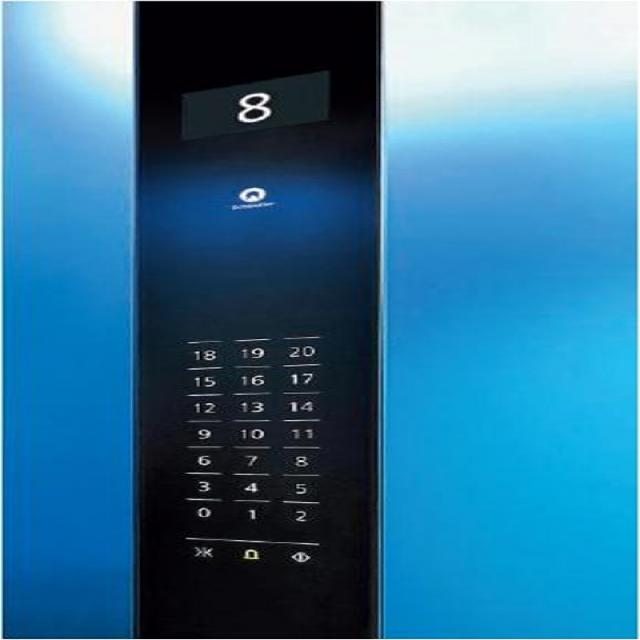0: (180, 496, 227, 527)
1: (228, 498, 275, 528)
10: (227, 418, 273, 449)
11: (276, 417, 323, 450)
12: (180, 392, 227, 423)
13: (228, 392, 275, 422)
14: (276, 390, 323, 423)
15: (180, 365, 227, 397)
16: (227, 364, 273, 397)
17: (276, 363, 323, 395)
18: (182, 339, 226, 370)
19: (228, 337, 272, 368)
2: (276, 499, 323, 530)
20: (275, 335, 321, 367)
3: (180, 471, 227, 502)
4: (228, 472, 275, 503)
5: (276, 473, 323, 504)
6: (180, 444, 227, 475)
7: (228, 444, 275, 476)
8: (276, 446, 323, 476)
9: (180, 418, 227, 449)
alarm: (227, 538, 273, 569)
close: (180, 536, 227, 566)
led: (172, 67, 332, 143)
open: (273, 540, 320, 571)
